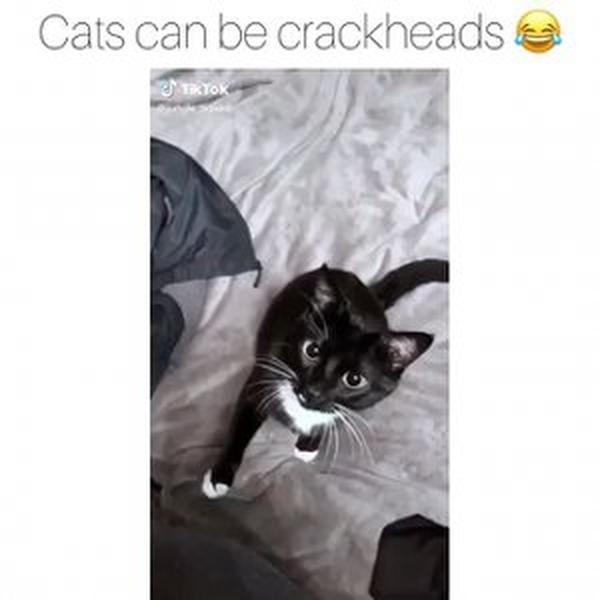michi: (195, 249, 447, 533)
